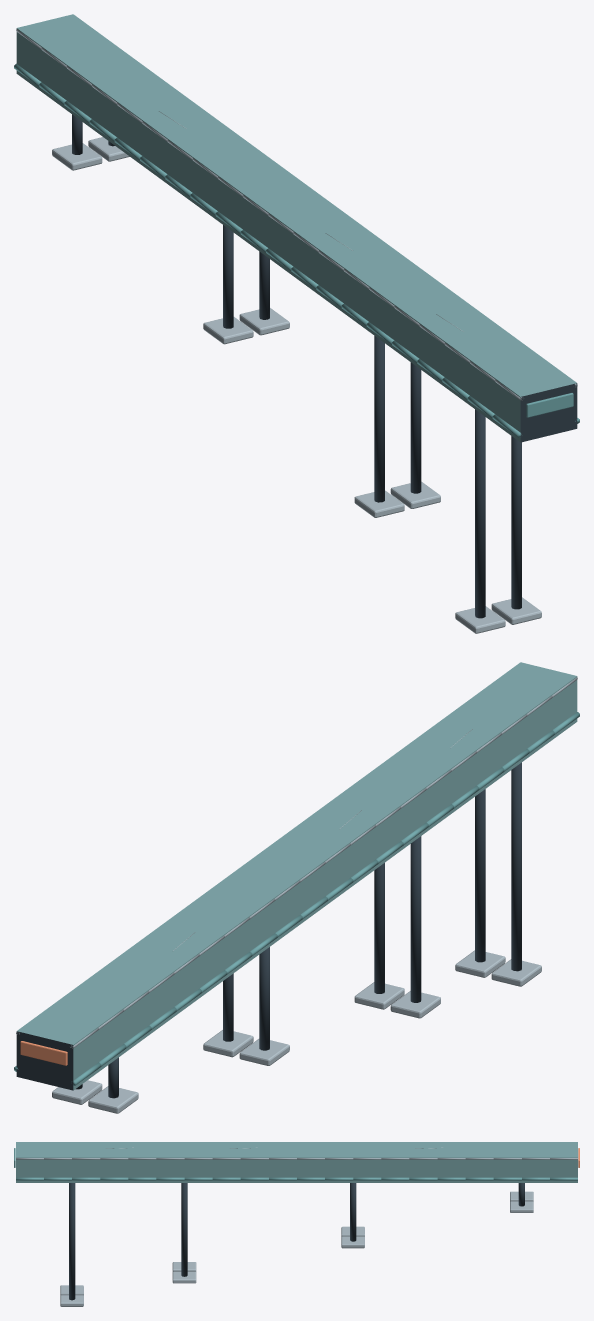
The model's file is Box_narrow.fbx.
3 renders of one model, top to bottom at view 1: azimuth 30°, elevation 25°; view 2: azimuth 150°, elevation 25°; view 3: azimuth 270°, elevation 25°, orthographic. The views are drawn at different scales.
Visible parts, largest first — view 1: Visual_Box_narrow; view 2: Visual_Box_narrow; view 3: Visual_Box_narrow.
Boxes of the visible parts, <box> form: Visual_Box_narrow: <box>14,14,579,633</box>; Visual_Box_narrow: <box>14,662,579,1113</box>; Visual_Box_narrow: <box>14,1142,579,1306</box>.
Size of what is drawn, in the model's own units: 0.766 by 2.91 by 10.07.
